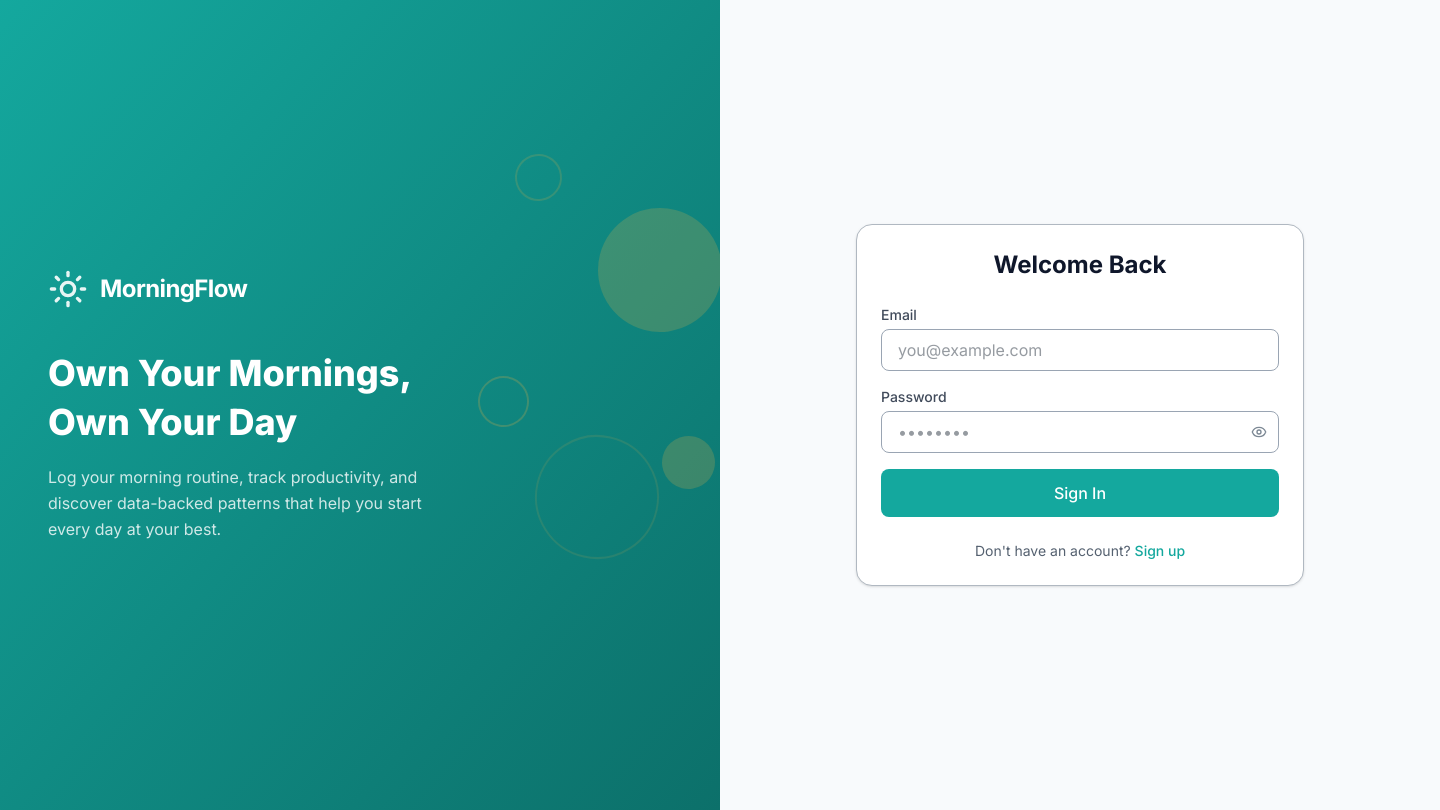
Scenario: LoginPage — accessibility › sets aria-describedby on inputs when an error is shown
This screenshot has width=1440, height=810.
Type "a@b.com" into the field labelled "Email" at (1080, 350), box [881, 329, 1279, 371]
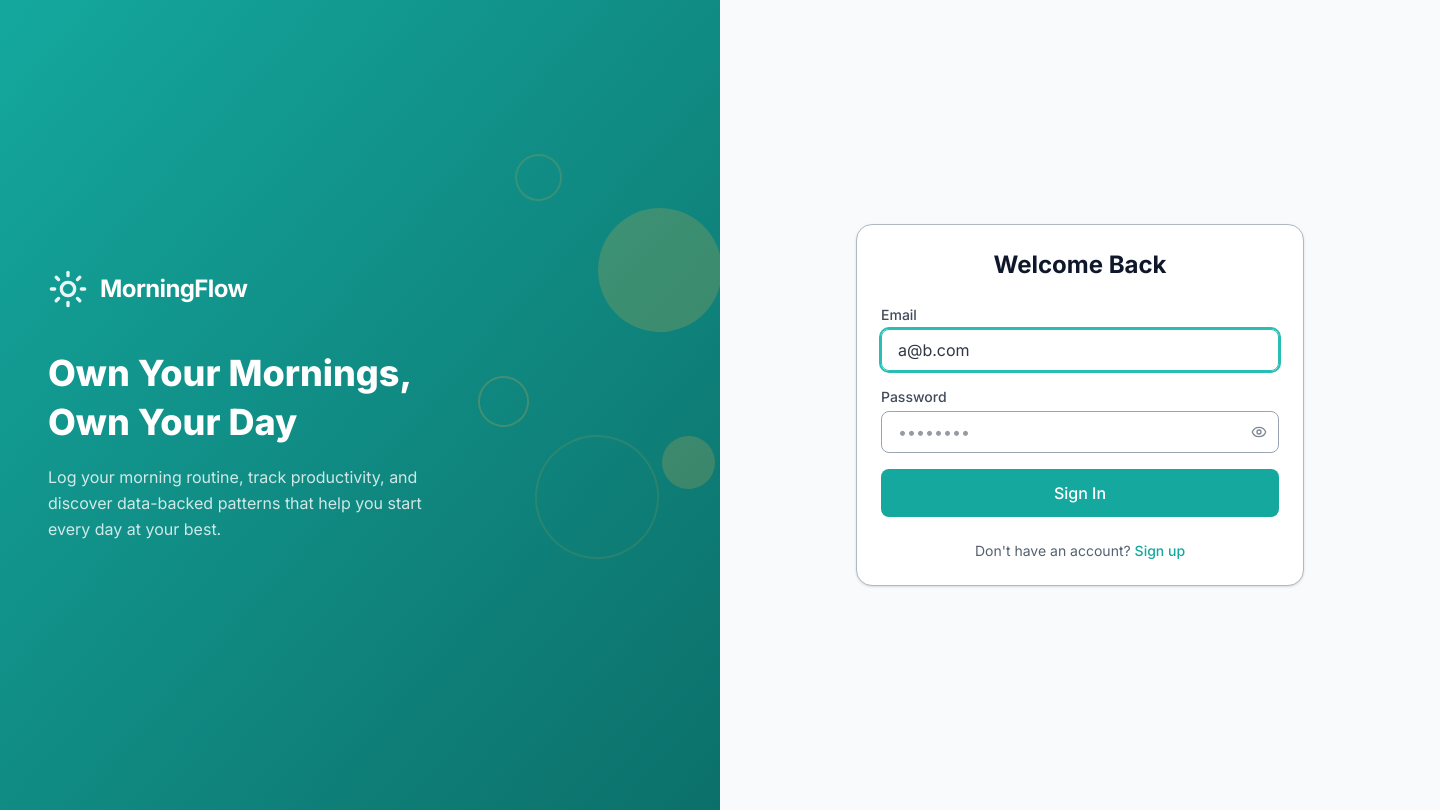
Type "x" into the password field labelled "Password" at (1080, 432), box [881, 411, 1279, 453]
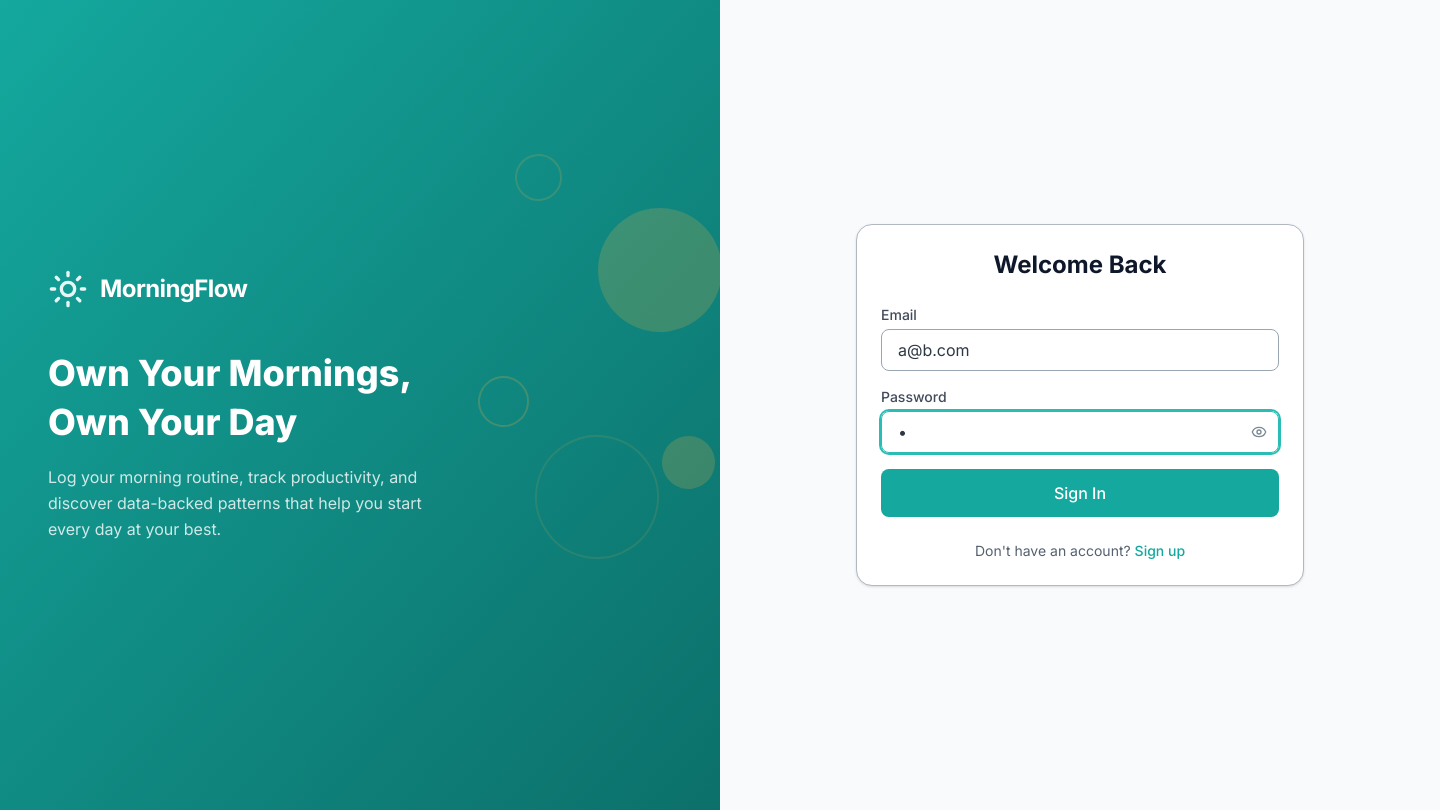
Click the button "Sign In" at (1080, 493), box [881, 469, 1279, 517]
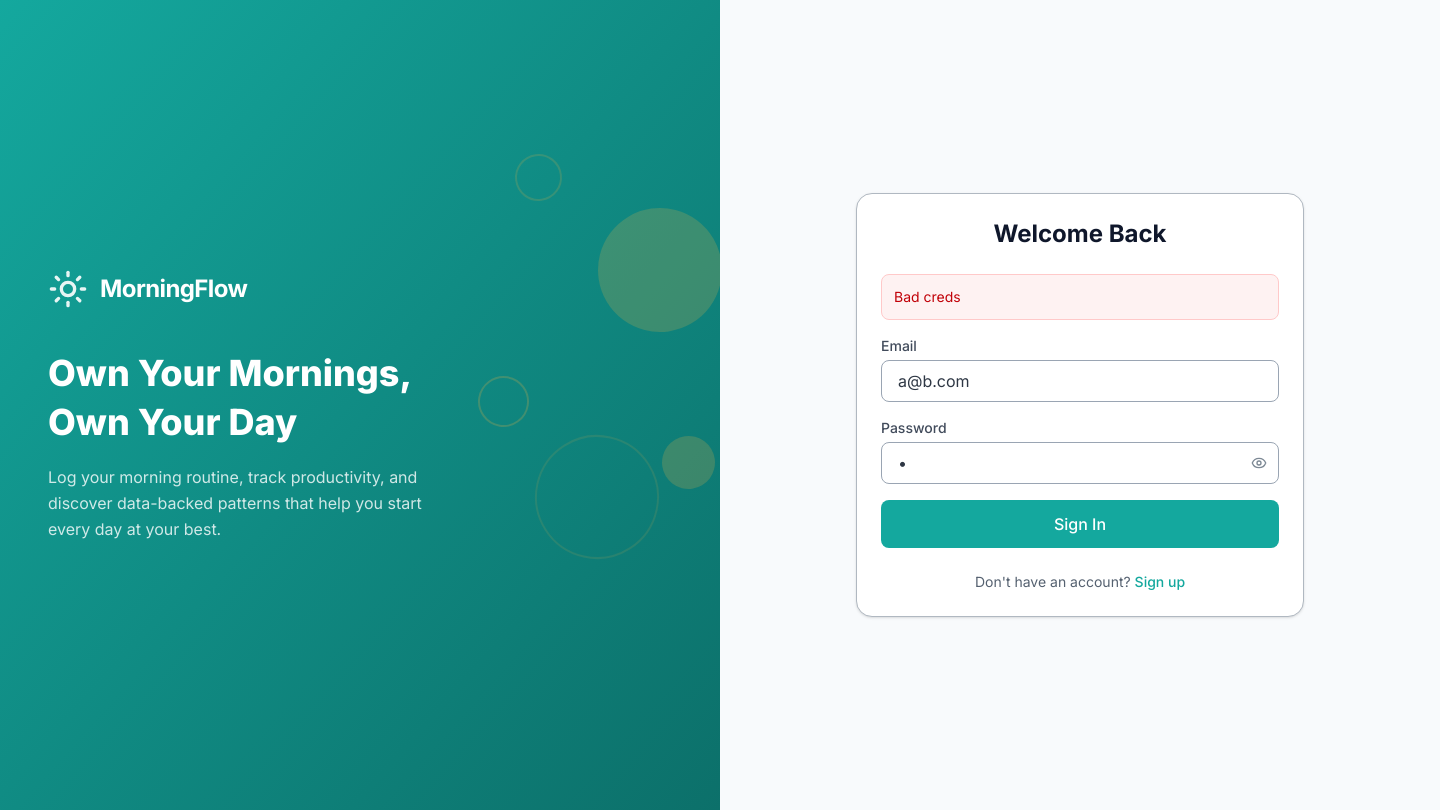
Result: the message "Bad creds" is shown at [881, 274, 1279, 320]
